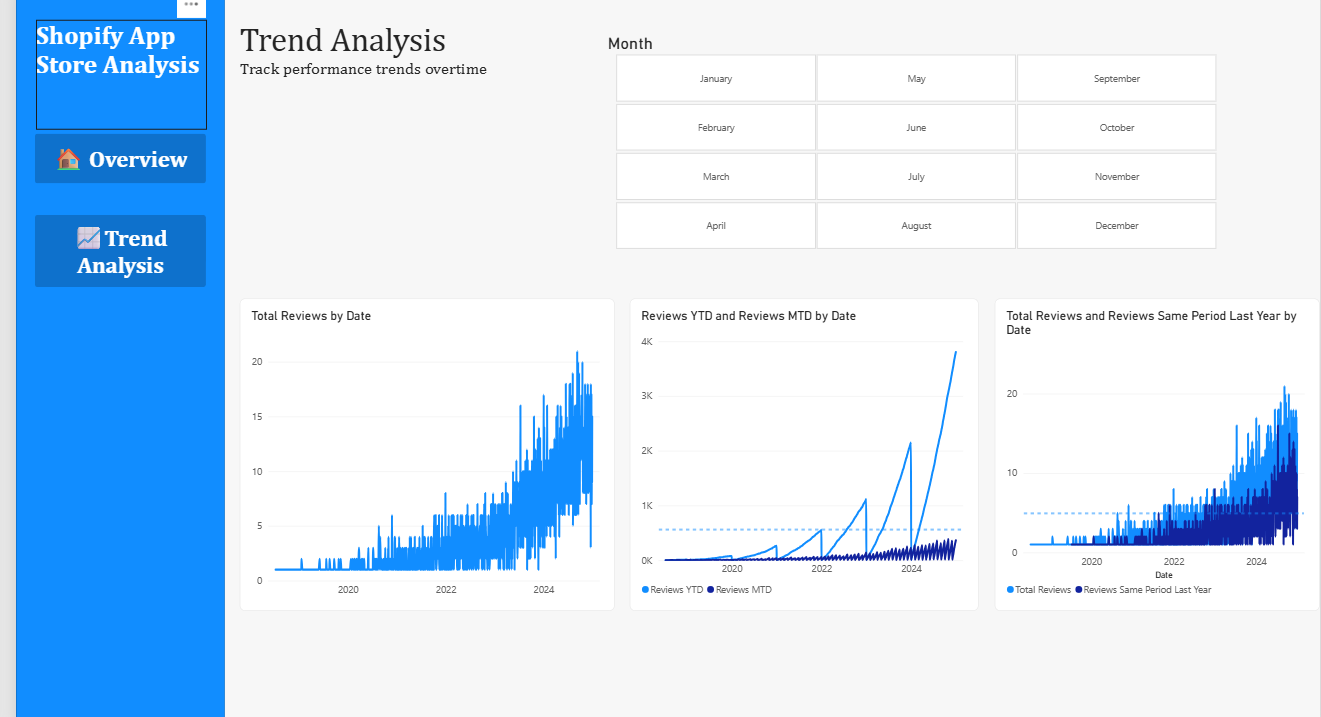

This screenshot's page, from the dashboard's own definition file:
{"tool":"powerbi","page":{"name":"Trend Analysis","canvas":[1920,1080],"ordinal":1},"visuals":[{"type":"lineChart","fields":{"Category":["dim_date.Date.Variation.Date Hierarchy.Year","dim_date.Date.Variation.Date Hierarchy.Month"],"Y":["reviews.Total Reviews"]},"box":[329.4,452.8,552.2,460.1],"z":0},{"type":"lineChart","fields":{"Category":["dim_date.Date.Variation.Date Hierarchy.Year","dim_date.Date.Variation.Date Hierarchy.Month"],"Y":["reviews.Total Reviews","reviews.Reviews Same Period Last Year"]},"box":[1441.1,452.8,478.5,460.1],"z":1000},{"type":"lineChart","fields":{"Category":["dim_date.Date.Variation.Date Hierarchy.Year","dim_date.Date.Variation.Date Hierarchy.Month"],"Y":["reviews.Reviews YTD","reviews.Reviews MTD"]},"box":[903.7,452.8,513.5,460.1],"z":2000},{"type":"slicer","fields":{"Values":["dim_date.Date.Variation.Date Hierarchy.Month"]},"box":[1096.9,42.3,752.8,322.1],"z":3000},{"type":"shape","box":[0,0,307.4,1080],"z":4000},{"type":"actionButton","box":[27.6,338.7,252.1,62.6],"z":5000},{"type":"textbox","box":[29.4,42.3,252.1,162],"z":6000},{"type":"textbox","box":[329,913,552,167],"z":7000},{"type":"textbox","box":[904,913,513,167],"z":8000},{"type":"textbox","box":[1441,913,479,167],"z":9000},{"type":"textbox","box":[329.4,42.3,552.2,202.5],"z":10000},{"type":"actionButton","box":[27.6,209.8,252.1,73.6],"z":11000},{"type":"actionButton","box":[27.6,329.4,252.1,106.7],"z":12000}]}

Visuals, with their boxes on the page's 1920x1080 design canvas (x1, y1, x2, y2). These are canvas units, not pixel positions in the 1321x717 screenshot, which may show the page scaled, cropped or inside an application window:
lineChart - dim_date.Date.Variation.Date Hierarchy.Year x dim_date.Date.Variation.Date Hierarchy.Month: crop(329, 453, 882, 913)
lineChart - dim_date.Date.Variation.Date Hierarchy.Year x dim_date.Date.Variation.Date Hierarchy.Month: crop(1441, 453, 1920, 913)
lineChart - dim_date.Date.Variation.Date Hierarchy.Year x dim_date.Date.Variation.Date Hierarchy.Month: crop(904, 453, 1417, 913)
slicer - dim_date.Date.Variation.Date Hierarchy.Month: crop(1097, 42, 1850, 364)
shape: crop(0, 0, 307, 1080)
actionButton: crop(28, 339, 280, 401)
textbox: crop(29, 42, 282, 204)
textbox: crop(329, 913, 881, 1080)
textbox: crop(904, 913, 1417, 1080)
textbox: crop(1441, 913, 1920, 1080)
textbox: crop(329, 42, 882, 245)
actionButton: crop(28, 210, 280, 283)
actionButton: crop(28, 329, 280, 436)
